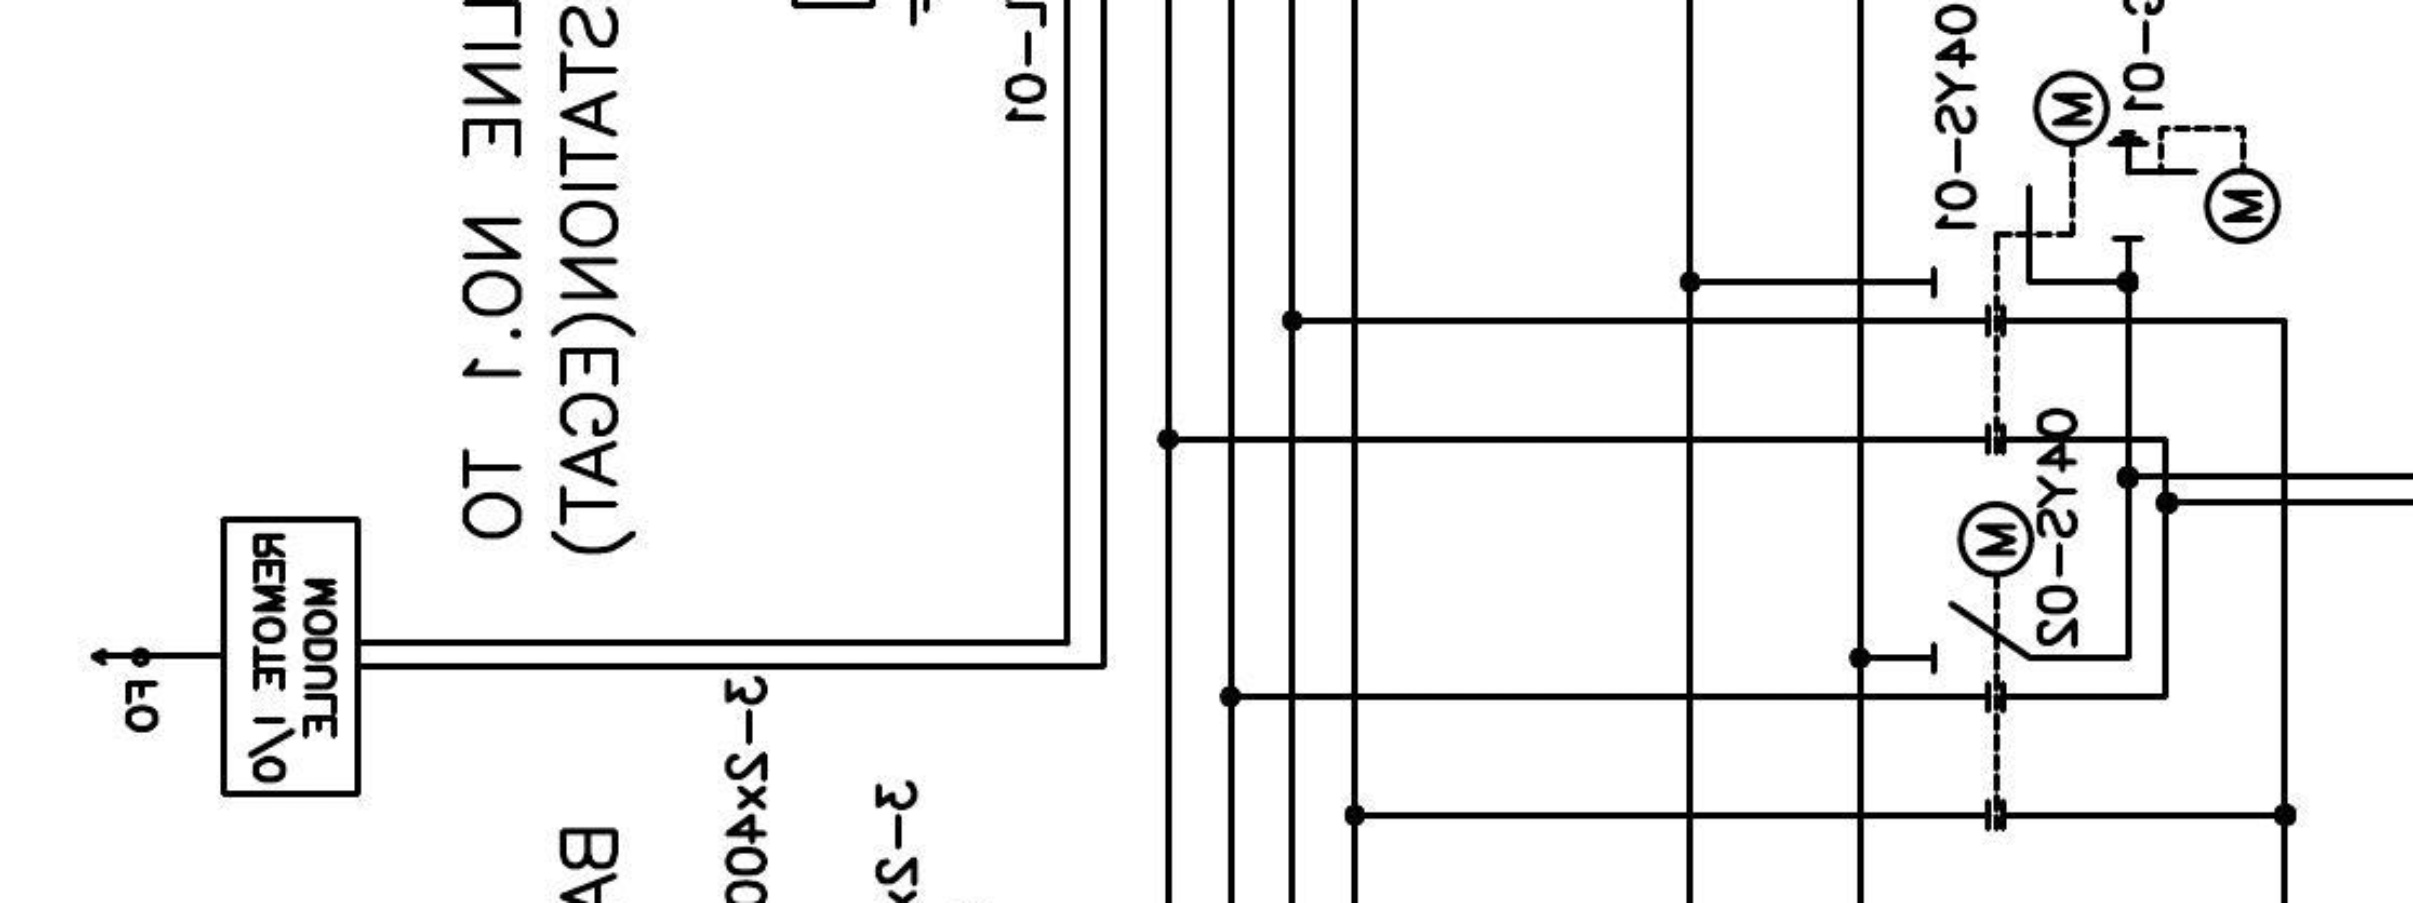115_1way_ds_w_motor: (1930, 69, 2113, 300), (1930, 498, 2036, 677)
115_gs_w_motor: (2105, 125, 2282, 246)
remote_io_module: (220, 514, 363, 797)
